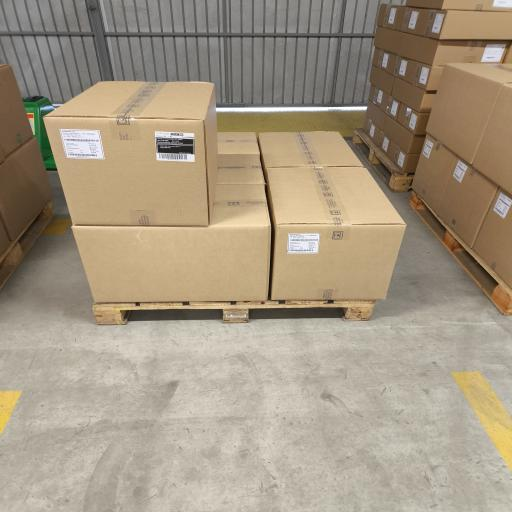pallet: (410, 192, 511, 315), (93, 300, 375, 324), (0, 202, 54, 289), (353, 129, 413, 191)
